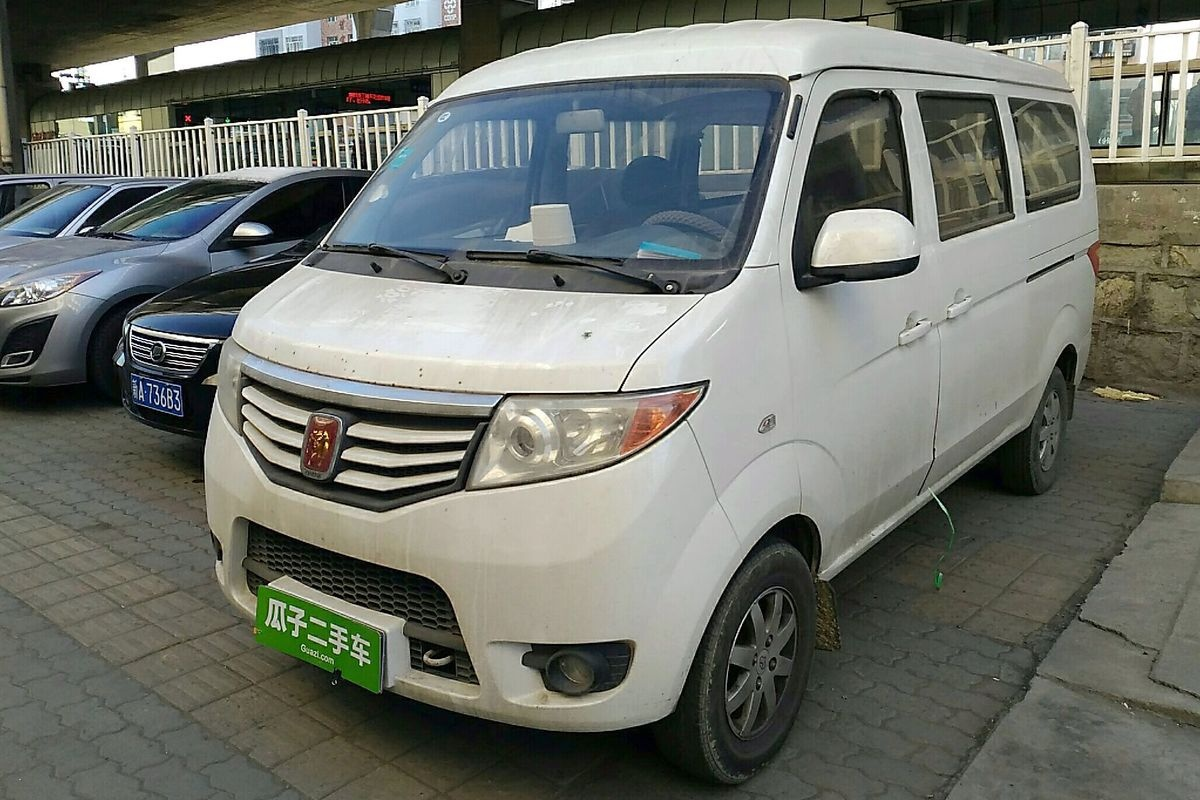minibus: (209, 28, 1109, 754)
